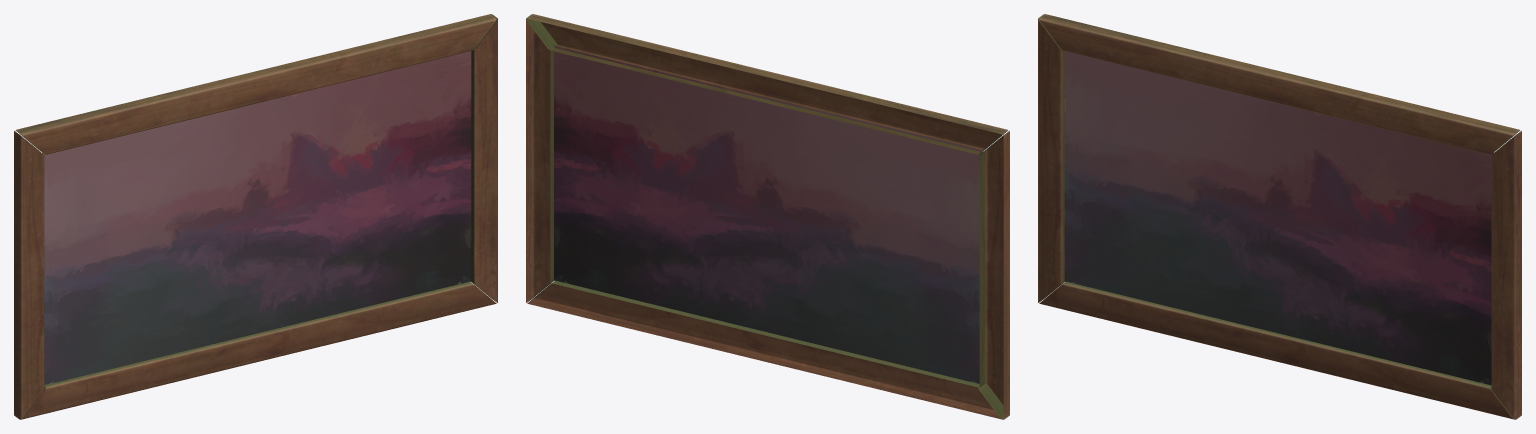
File: SM_Frames_02.fbx
3 renders of one model, left to right at view 1: azimuth 30°, elevation 25°; view 2: azimuth 150°, elevation 25°; view 3: azimuth 330°, elevation 25°, orthographic.
Visible parts, largest first — view 1: SM_Frames_02_LOD0; view 2: SM_Frames_02_LOD0; view 3: SM_Frames_02_LOD0.
Boxes of the visible parts, bbox=[...] form: SM_Frames_02_LOD0: bbox=[14, 14, 497, 419]; SM_Frames_02_LOD0: bbox=[526, 14, 1009, 419]; SM_Frames_02_LOD0: bbox=[1038, 14, 1521, 419].
Bounding box in the file's own units: 71.34 × 2 × 40.69.
1 material, 1 textured.
